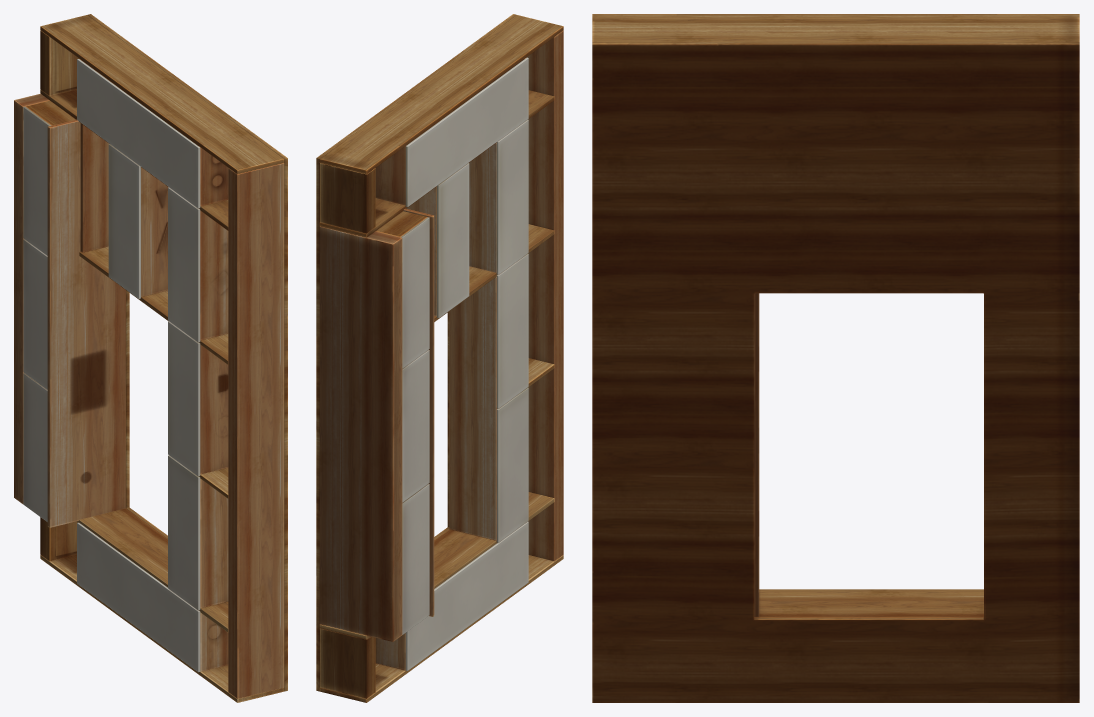
File: body_4.obj
The picture shows the model from 3 angles, left to right: view 1: azimuth 30°, elevation 25°; view 2: azimuth 150°, elevation 25°; view 3: azimuth 270°, elevation 25°; orthographic projection. The views are drawn at different scales.
Visible parts, largest first — view 1: polySurface83_1008.004; view 2: polySurface83_1008.004; view 3: polySurface83_1008.004.
Part boxes in pixels (x1,y1,x2,y2): polySurface83_1008.004: (14, 14, 287, 702); polySurface83_1008.004: (316, 14, 563, 702); polySurface83_1008.004: (592, 14, 1079, 702).
Size of the model in its own units: 5.65 by 35.88 by 24.07.
Materials: 1 (1 with a texture image).
